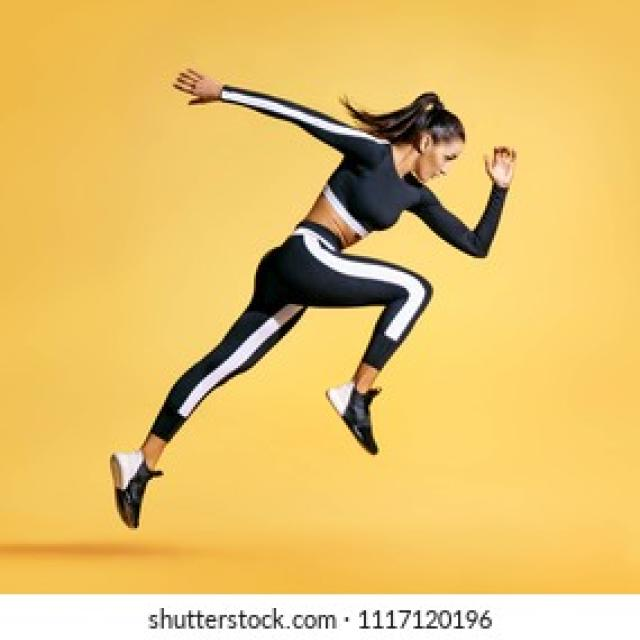running: (106, 65, 521, 533)
